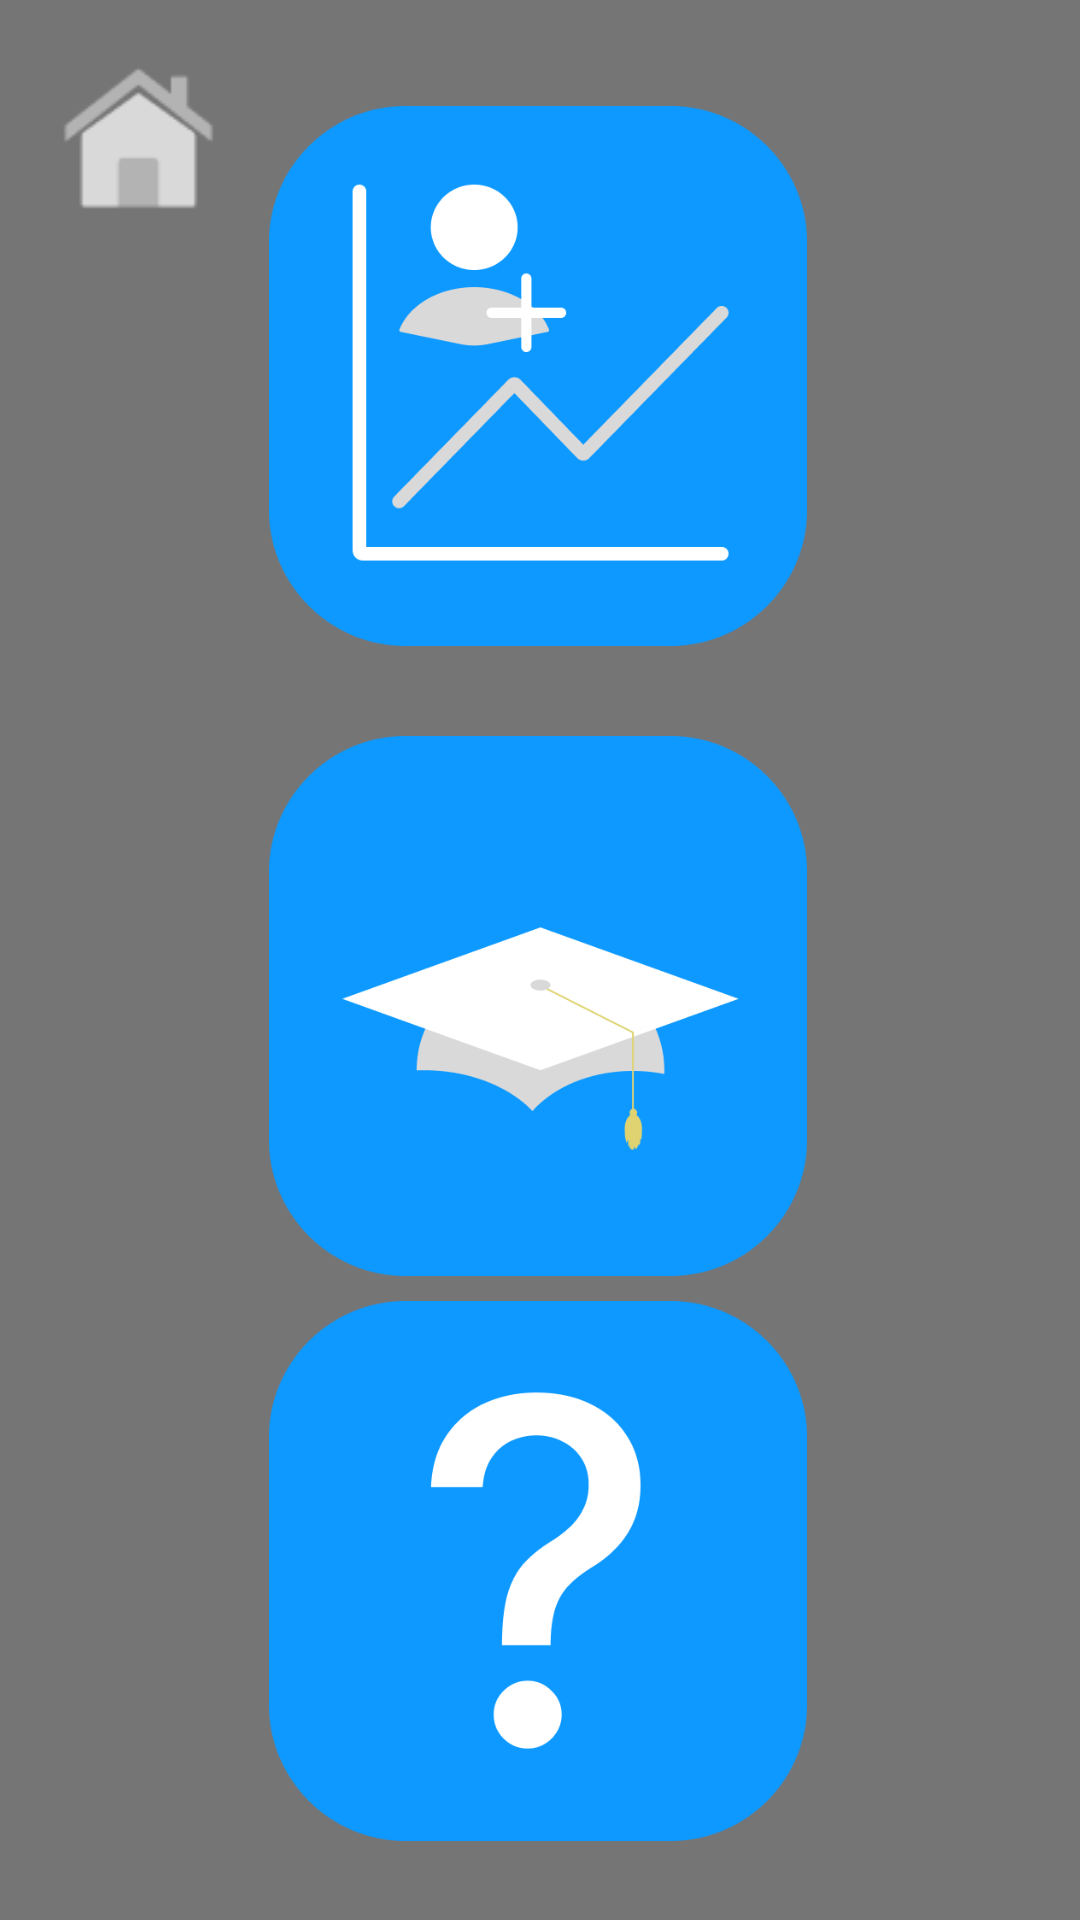

Icons on this 1080 × 1920 Android screen, each with the point to tap as (x,y):
Home Icon: (138,138)
